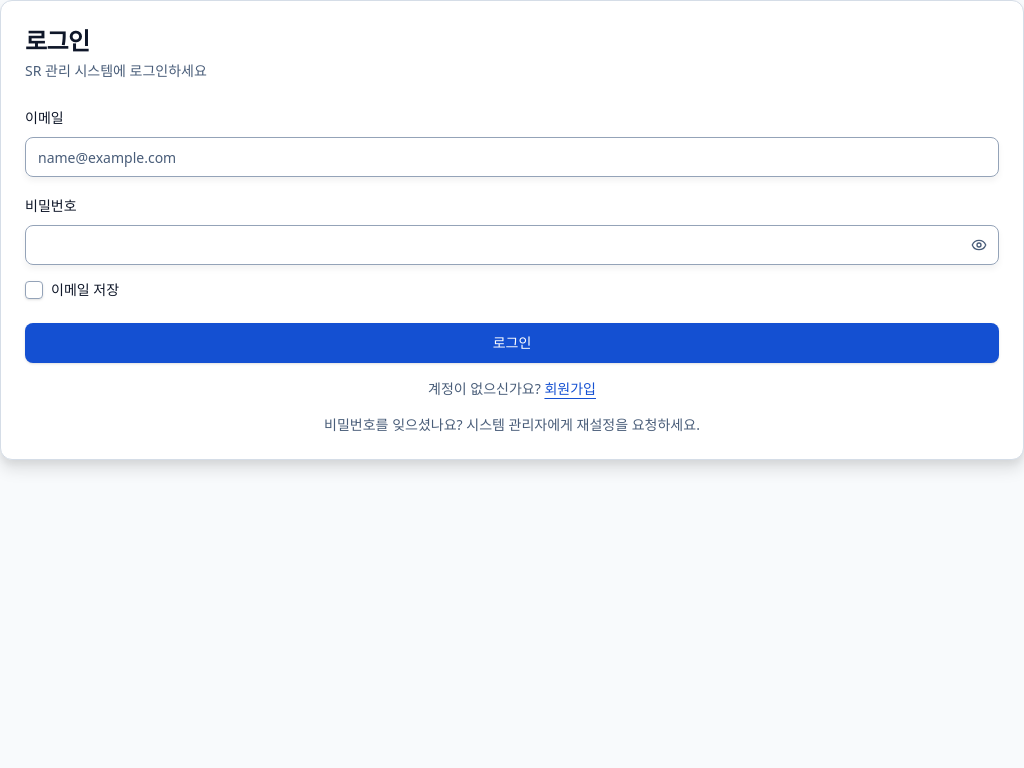
Test case: LoginForm — 실패 처리 › 계정이 잠겼으면(code=account_locked) 비밀번호가 틀렸다고 하지 않고 기다릴 시간을 알린다
Step 1. Type "hong@example.com" into the field labelled "이메일" → (512, 157), box [25,137,999,177]
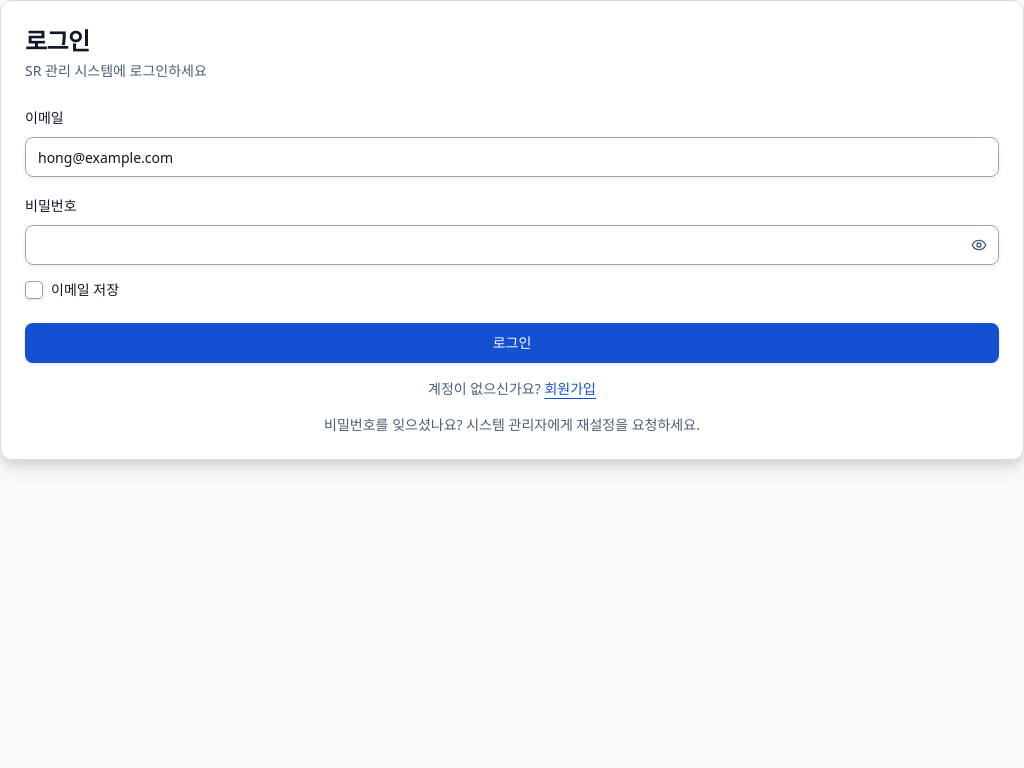
Step 2. Type "pw1234!" into the password field labelled "비밀번호" → (512, 245), box [25,225,999,265]
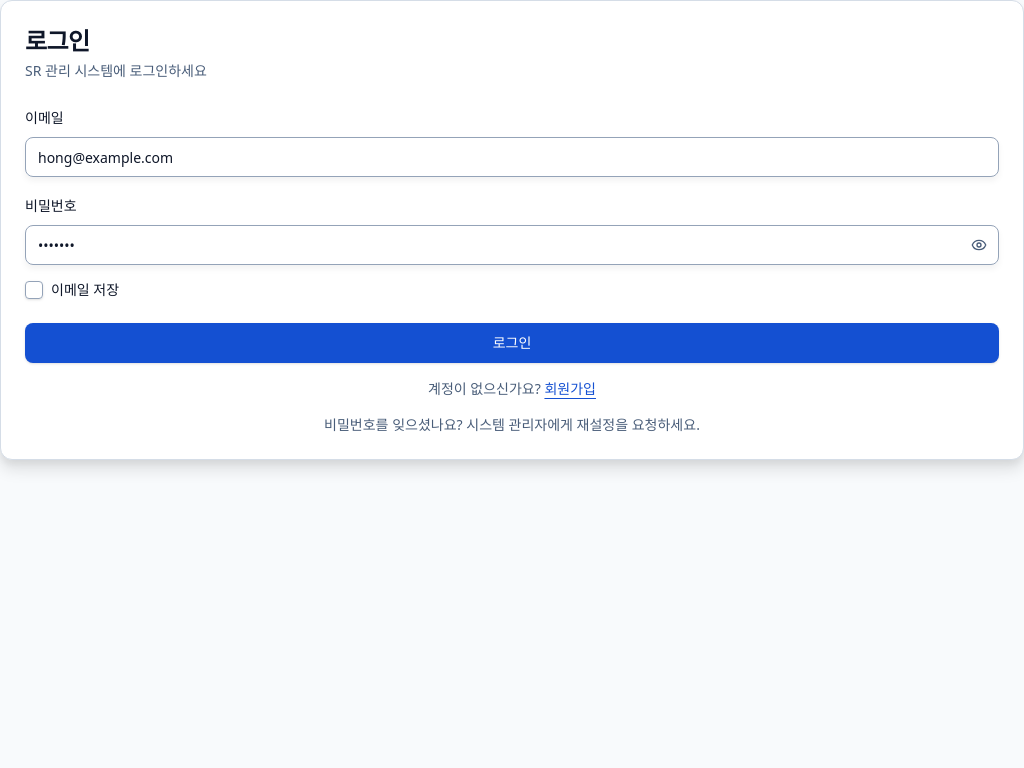
Step 3. Click the button "로그인" → (512, 343), box [25,323,999,363]
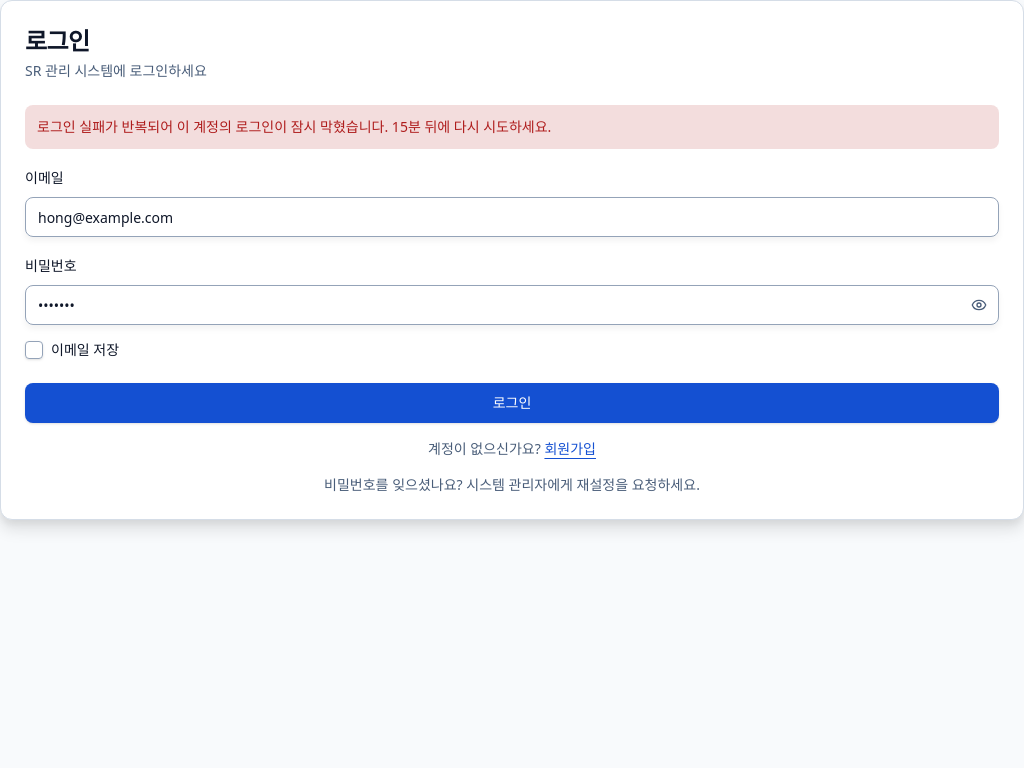
Expected: the message does not show "이메일 또는 비밀번호가 올바르지 않습니다.", [25,105,999,149]
Now the message shows "잠시 막혔습니다. 15분 뒤에 다시 시도하세요.", box [37,117,551,136]
